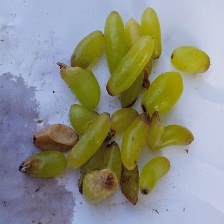grapes: (23, 0, 197, 199)
